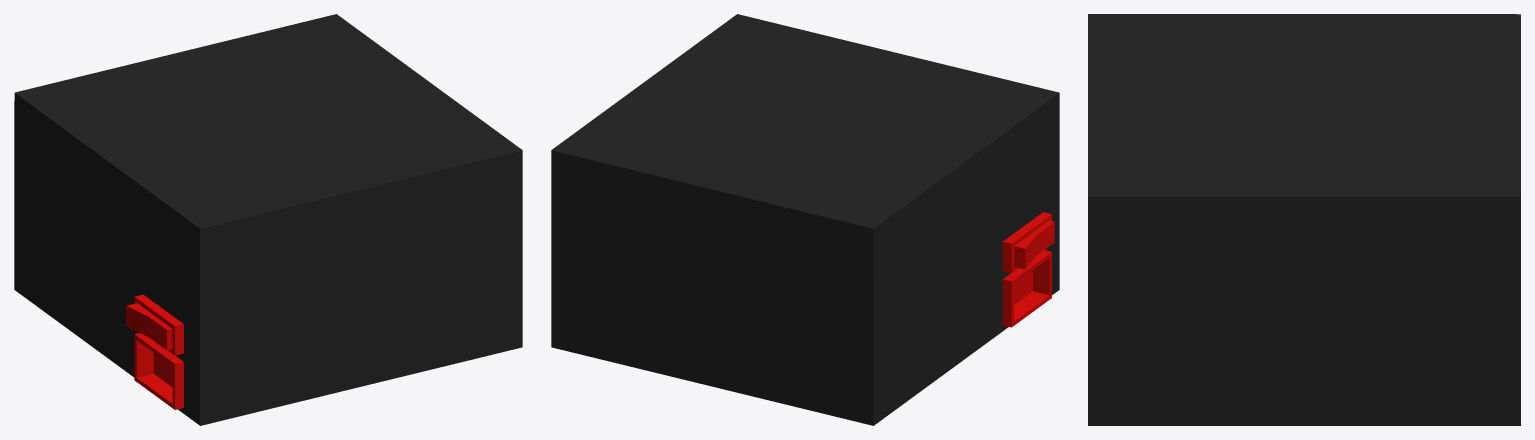
File: psunew.fbx
3 views of the same model, side by side, from view 1: azimuth 30°, elevation 25°; view 2: azimuth 150°, elevation 25°; view 3: azimuth 270°, elevation 25° (orthographic). The views are drawn at different scales.
Parts seen in each view (by area): view 1: PSURough; view 2: PSURough; view 3: PSURough.
Boxes of the visible parts, left/top/right/bottom form: PSURough: left=14, top=14, right=522, bottom=425; PSURough: left=551, top=14, right=1059, bottom=425; PSURough: left=1088, top=14, right=1520, bottom=425.
Size of the model in its own units: 20.13 by 11.07 by 18.96.
